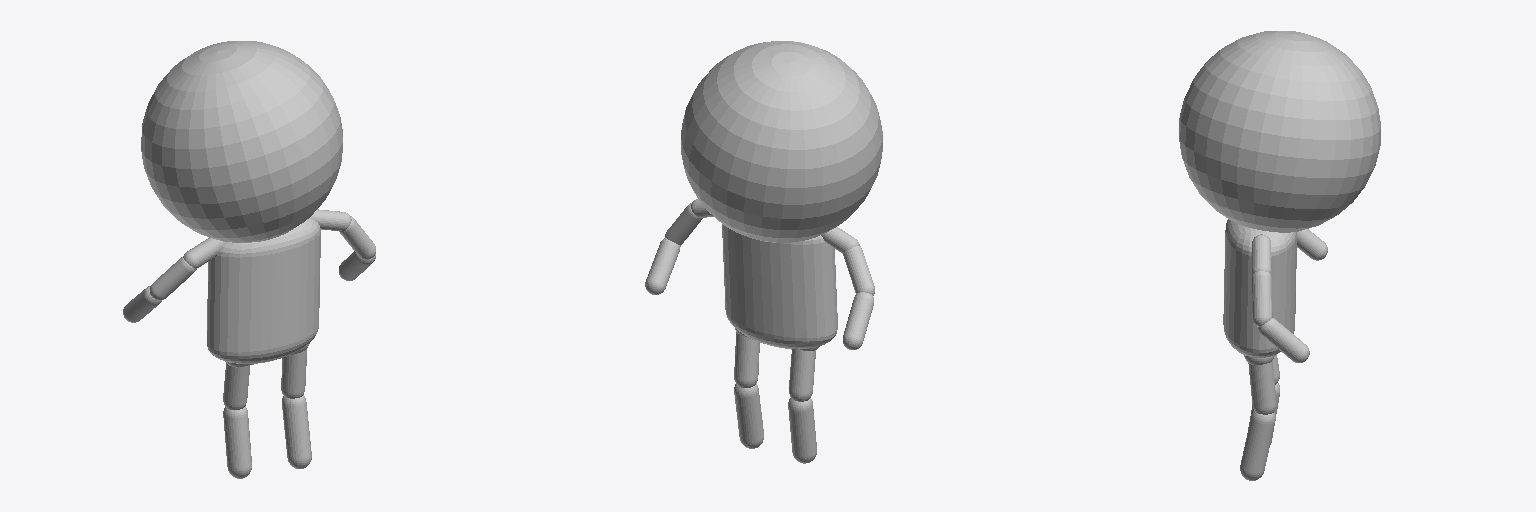
File: Stickman_000080.obj
The picture shows the model from 3 angles: view 1: azimuth 30°, elevation 25°; view 2: azimuth 150°, elevation 25°; view 3: azimuth 270°, elevation 25°; orthographic projection.
Parts seen in each view (by area): view 1: Head_Sphere.001, Body_Roundcube.002, LowerLegLeft_Roundcube.013, LowerLegRight_Roundcube.011, UpperLegLeft_Roundcube.012, UpperLegRight_Roundcube.010, UpperArmRight_Roundcube.015, UpperArmLeft_Roundcube.018, LowerArmRight_Roundcube.016, ShoulderRight_Roundcube.014, ShoulderLeft_Roundcube.017, LowerArmLeft_Roundcube.019; view 2: Head_Sphere.001, Body_Roundcube.002, LowerLegRight_Roundcube.011, LowerLegLeft_Roundcube.013, UpperLegRight_Roundcube.010, UpperLegLeft_Roundcube.012, LowerArmRight_Roundcube.016, LowerArmLeft_Roundcube.019, UpperArmRight_Roundcube.015, UpperArmLeft_Roundcube.018, ShoulderRight_Roundcube.014; view 3: Head_Sphere.001, Body_Roundcube.002, LowerLegLeft_Roundcube.013, UpperLegLeft_Roundcube.012, LowerArmLeft_Roundcube.019, UpperArmLeft_Roundcube.018, ShoulderLeft_Roundcube.017, LowerArmRight_Roundcube.016.
Boxes of the visible parts, x1,y1,x2,y2 form: Head_Sphere.001: [141, 41, 342, 242]; Body_Roundcube.002: [207, 218, 320, 363]; LowerLegLeft_Roundcube.013: [282, 395, 311, 468]; LowerLegRight_Roundcube.011: [223, 406, 251, 478]; UpperLegLeft_Roundcube.012: [281, 349, 306, 398]; UpperLegRight_Roundcube.010: [223, 363, 249, 409]; UpperArmRight_Roundcube.015: [150, 257, 196, 300]; UpperArmLeft_Roundcube.018: [339, 216, 375, 259]; LowerArmRight_Roundcube.016: [123, 286, 161, 322]; ShoulderRight_Roundcube.014: [183, 237, 224, 268]; ShoulderLeft_Roundcube.017: [310, 209, 351, 230]; LowerArmLeft_Roundcube.019: [339, 251, 375, 280]; Head_Sphere.001: [681, 41, 882, 242]; Body_Roundcube.002: [722, 224, 837, 348]; LowerLegRight_Roundcube.011: [788, 398, 816, 463]; LowerLegLeft_Roundcube.013: [734, 383, 763, 448]; UpperLegRight_Roundcube.010: [789, 349, 815, 401]; UpperLegLeft_Roundcube.012: [734, 332, 759, 387]; LowerArmRight_Roundcube.016: [843, 292, 873, 349]; LowerArmLeft_Roundcube.019: [645, 238, 680, 294]; UpperArmRight_Roundcube.015: [843, 246, 874, 295]; UpperArmLeft_Roundcube.018: [665, 203, 702, 245]; ShoulderRight_Roundcube.014: [821, 227, 859, 253]; Head_Sphere.001: [1179, 31, 1380, 232]; Body_Roundcube.002: [1223, 219, 1296, 357]; LowerLegLeft_Roundcube.013: [1240, 411, 1275, 480]; UpperLegLeft_Roundcube.012: [1248, 360, 1276, 414]; LowerArmLeft_Roundcube.019: [1258, 318, 1309, 362]; UpperArmLeft_Roundcube.018: [1252, 271, 1272, 326]; ShoulderLeft_Roundcube.017: [1252, 234, 1270, 273]; LowerArmRight_Roundcube.016: [1297, 229, 1327, 260].
Size of the model in its own units: 7.46 by 13.22 by 5.8.